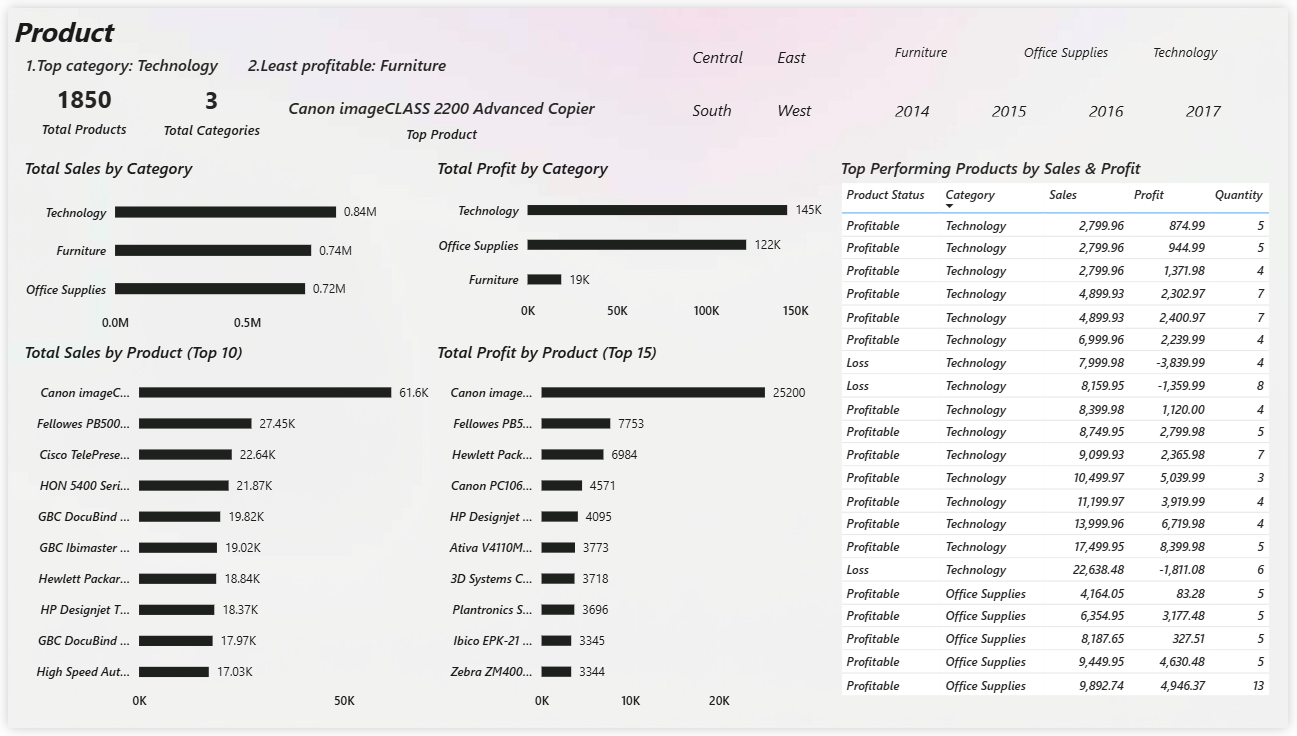

Layout of this report page (visuals, bound fields, positions):
{"tool":"powerbi","page":{"name":"Product","canvas":[1280,720],"ordinal":5},"visuals":[{"type":"card","fields":{"Values":["_Measures.Total Products"]},"box":[11.4,65.3,130,72.9],"z":0},{"type":"barChart","fields":{"Y":["_Measures.Total Sales"],"Category":["Superstore.Category"]},"box":[11.4,148.6,377.1,184.3],"z":1000},{"type":"barChart","fields":{"Y":["_Measures.Total Profit"],"Category":["Superstore.Category"]},"box":[424.3,148.6,430,172.9],"z":2000},{"type":"barChart","title":"Total Profit by Product (Top 15)","fields":{"Y":["_Measures.Total Profit"],"Category":["Superstore.Product_Name"]},"box":[424.3,332.9,390,378.6],"z":3000},{"type":"barChart","title":"Total Sales by Product (Top 10)","fields":{"Y":["_Measures.Total Sales"],"Category":["Superstore.Product_Name"]},"box":[10.9,333,429.5,378.8],"z":4000},{"type":"textbox","box":[0,0,137.1,47.1],"z":5000},{"type":"advancedSlicerVisual","fields":{"Values":["Superstore.Region"]},"box":[666.6,18.7,172.9,109.8],"z":6000},{"type":"advancedSlicerVisual","fields":{"Values":["Superstore.Category"]},"box":[868.7,16.9,390,55.7],"z":7000},{"type":"advancedSlicerVisual","fields":{"Values":["Superstore.Year"]},"box":[868.7,72.6,390,54.3],"z":8000},{"type":"actionButton","box":[1180,634.3,100,85.7],"z":9000},{"type":"card","fields":{"Values":["_Measures.Total Categories"]},"box":[137.5,65.8,132.7,72.4],"z":10000},{"type":"card","fields":{"Values":["_Measures.Product Insight"]},"box":[12.9,44.3,431.4,30],"z":11000},{"type":"card","fields":{"Values":["_Measures.Top Product"]},"box":[270,74.3,327.1,74.3],"z":12000},{"type":"tableEx","title":"Top Performing Products by Sales & Profit","fields":{"Values":["Superstore.Product Status","Superstore.Category","Superstore.Sales","Superstore.Profit","Superstore.Quantity"]},"box":[827.1,148.6,442.9,562.9],"z":13000}]}

Visuals, with their boxes in screenshot pixels (x1, y1, x2, y2), scaled from the page's 1280x720 canvas onto the 1297x736 screenshot:
card - _Measures.Total Products: region(12, 67, 143, 141)
barChart - _Measures.Total Sales x Superstore.Category: region(12, 152, 394, 340)
barChart - _Measures.Total Profit x Superstore.Category: region(430, 152, 866, 329)
"Total Profit by Product (Top 15)" barChart: region(430, 340, 825, 727)
"Total Sales by Product (Top 10)" barChart: region(11, 340, 446, 728)
textbox: region(0, 0, 139, 48)
advancedSlicerVisual - Superstore.Region: region(675, 19, 851, 131)
advancedSlicerVisual - Superstore.Category: region(880, 17, 1275, 74)
advancedSlicerVisual - Superstore.Year: region(880, 74, 1275, 130)
actionButton: region(1196, 648, 1296, 735)
card - _Measures.Total Categories: region(139, 67, 274, 141)
card - _Measures.Product Insight: region(13, 45, 450, 76)
card - _Measures.Top Product: region(274, 76, 605, 152)
"Top Performing Products by Sales & Profit" tableEx: region(838, 152, 1287, 727)
